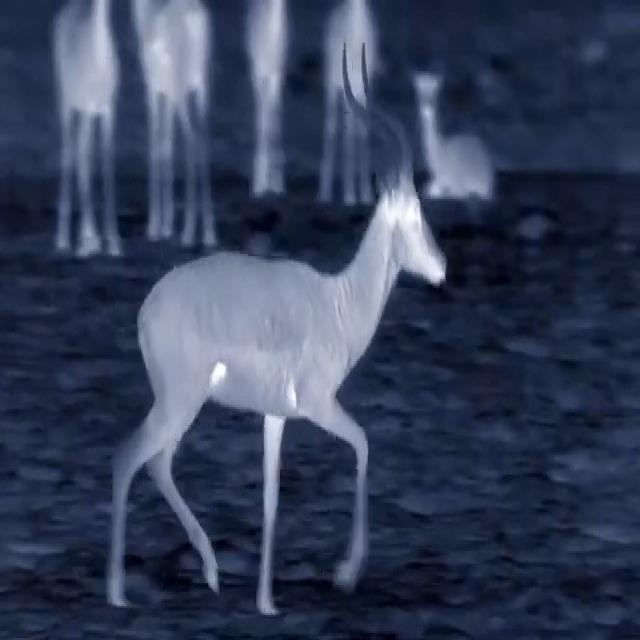animal: (93, 47, 482, 615), (44, 0, 592, 266)
